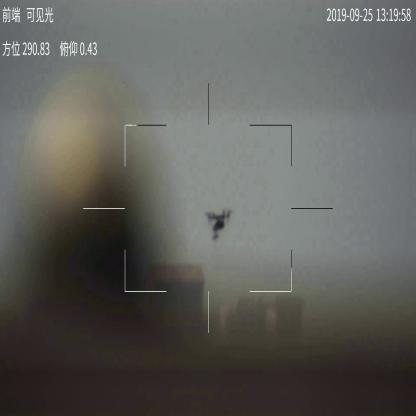uav: (205, 208, 233, 240)
